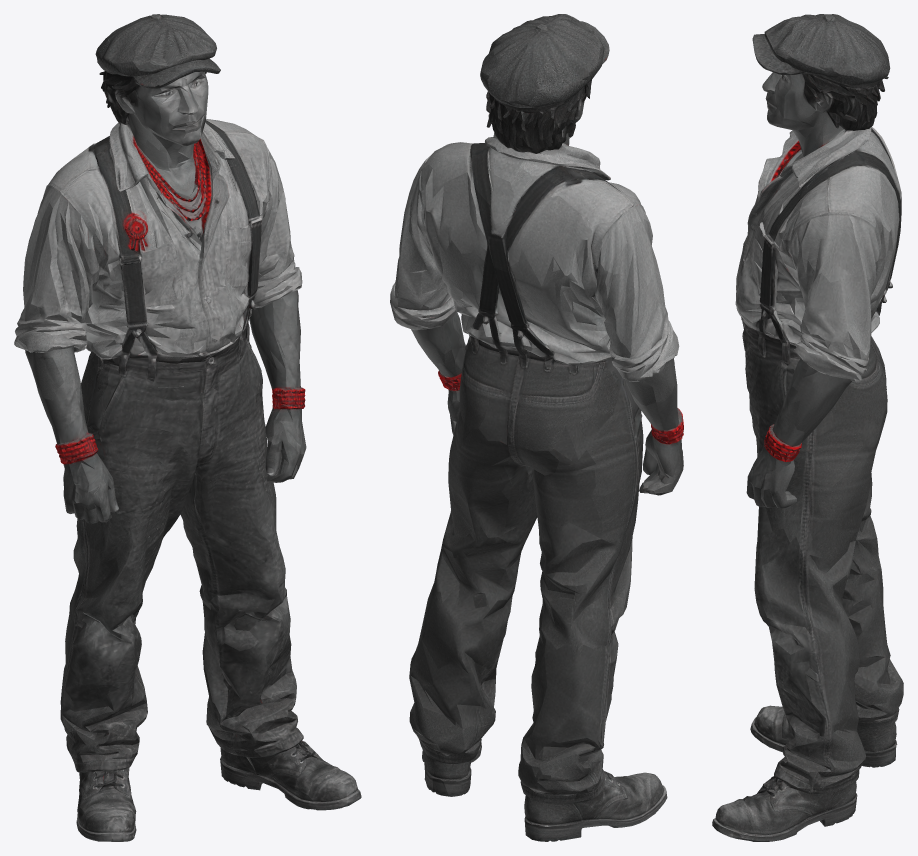
File: cast_observer_man.glb
3 renders of one model, left to right at view 1: azimuth 30°, elevation 25°; view 2: azimuth 150°, elevation 25°; view 3: azimuth 270°, elevation 25°, orthographic. The views are drawn at different scales.
Visible parts, largest first — view 1: CastObserverManMesh; view 2: CastObserverManMesh; view 3: CastObserverManMesh.
Part boxes in pixels (box(x1,y1,x2,y2)): CastObserverManMesh: box(14, 14, 361, 841); CastObserverManMesh: box(390, 14, 683, 841); CastObserverManMesh: box(712, 14, 903, 841).
Bounding box in the file's own units: 0.7175 × 1.9 × 0.4356.
1 material, 1 textured.
